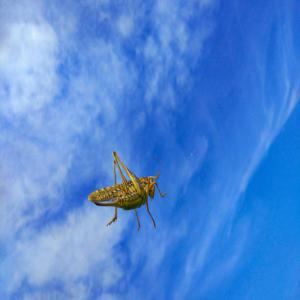locust: (77, 155, 168, 237)
